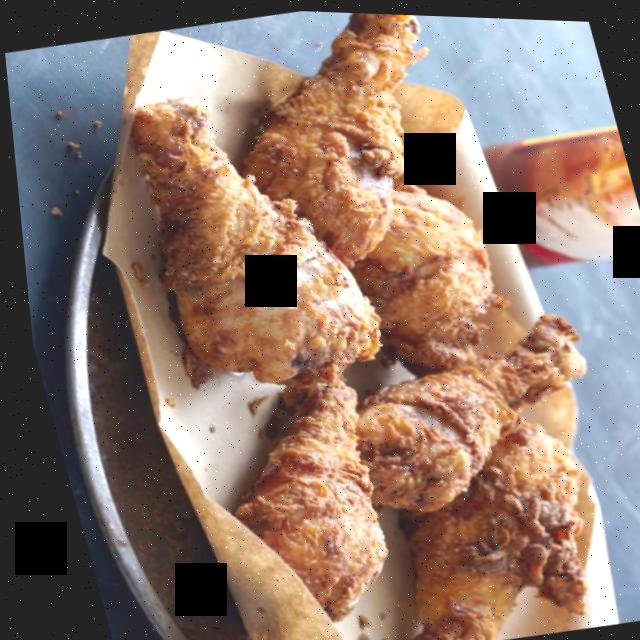Frango: (85, 2, 640, 640)
